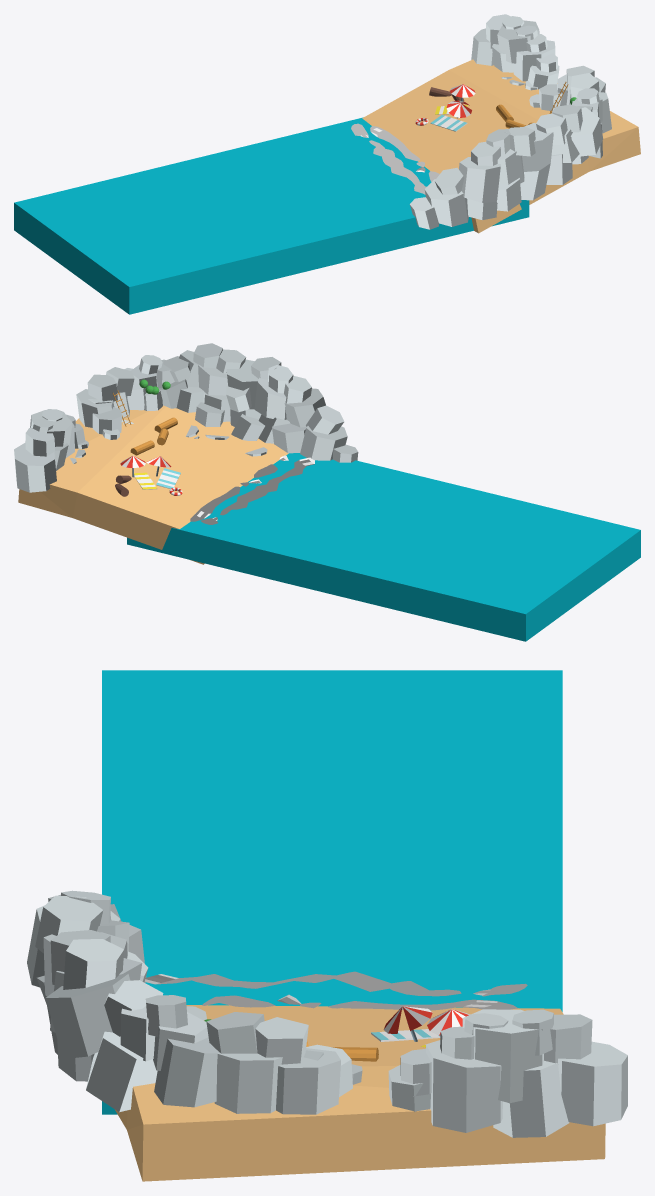
The model's file is scene_wdaP2sV8RT.glb.
3 views of the same model, one above another, from view 1: azimuth 30°, elevation 25°; view 2: azimuth 150°, elevation 25°; view 3: azimuth 270°, elevation 25° (orthographic). The views are drawn at different scales.
Visible parts, largest first — view 1: Node; view 2: Node; view 3: Node.
Boxes of the visible parts, box(x1,y1,x2,y2) form: Node: box(14, 14, 640, 314); Node: box(14, 343, 640, 641); Node: box(27, 670, 627, 1181).
Size of the model in its own units: 1.38 by 0.2685 by 0.6919.
